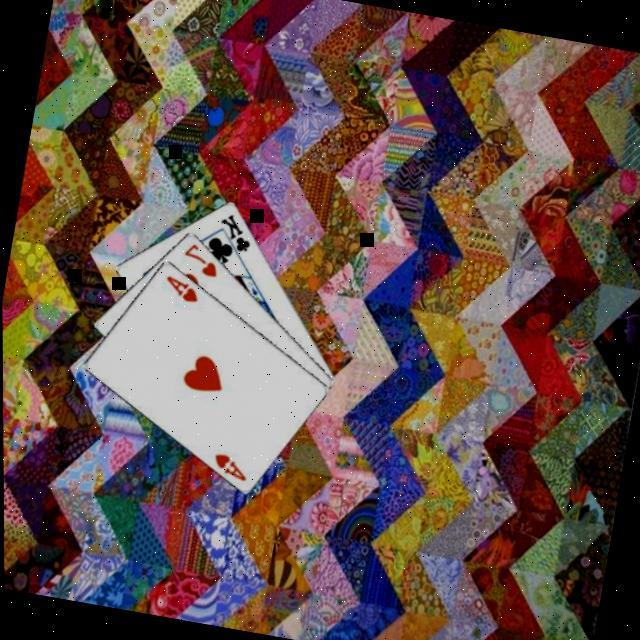7H: (177, 236, 225, 279)
AH: (160, 269, 204, 304), (209, 447, 252, 481)
KC: (212, 207, 258, 262)
